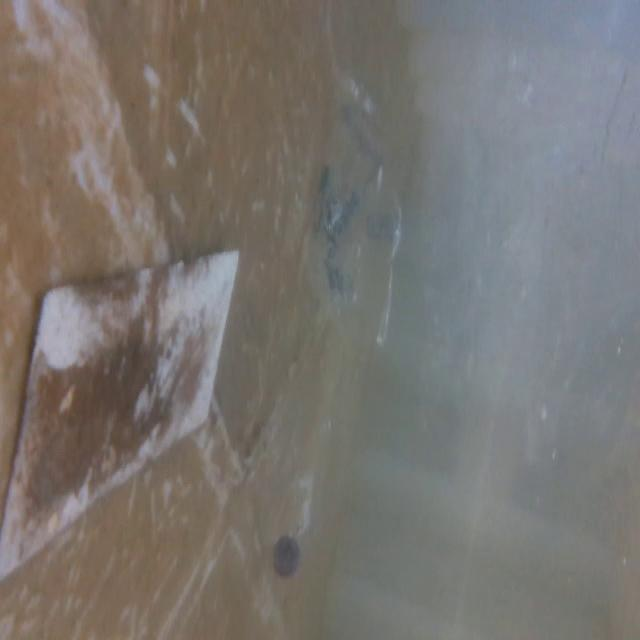metal: (0, 248, 242, 584)
plastic bags: (425, 38, 628, 432), (303, 70, 406, 361)
plastic bottle: (259, 401, 335, 587)
